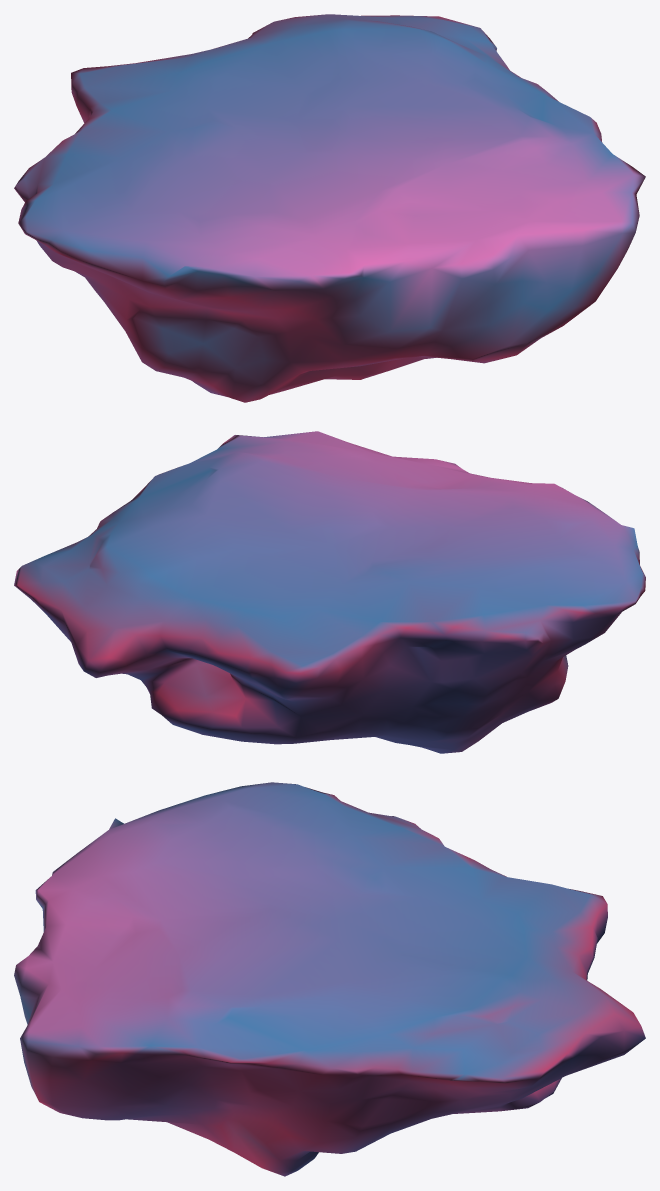
Rendered from Platform_Rock_00.fbx.
3 renders of one model, top to bottom at view 1: azimuth 30°, elevation 25°; view 2: azimuth 150°, elevation 25°; view 3: azimuth 270°, elevation 25°, orthographic. The views are drawn at different scales.
Visible parts, largest first — view 1: transform7; view 2: transform7; view 3: transform7.
Part boxes in pixels (x1,y1,x2,y2): transform7: (14,14,645,402); transform7: (14,431,645,753); transform7: (14,782,645,1176).
Bounding box in the file's own units: 303 × 119 × 289.
